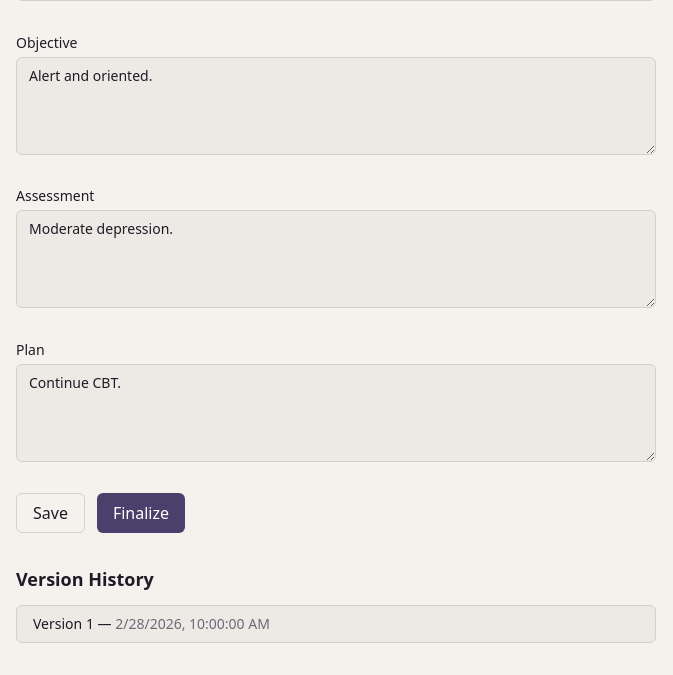
Test: Session note edit page › shows error when save throws
The width and height of the screenshot is (673, 675).
(page scrolled)
Step 1. Click the button "Save" → coordinates (50, 513), box [16, 493, 85, 533]
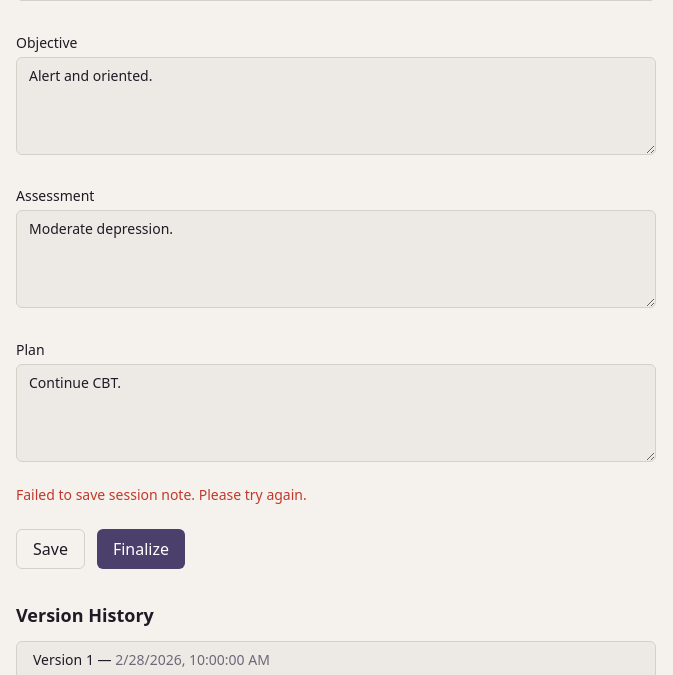
Check: the text "Failed to save session note. Please try again." is shown, box [16, 485, 307, 504]
